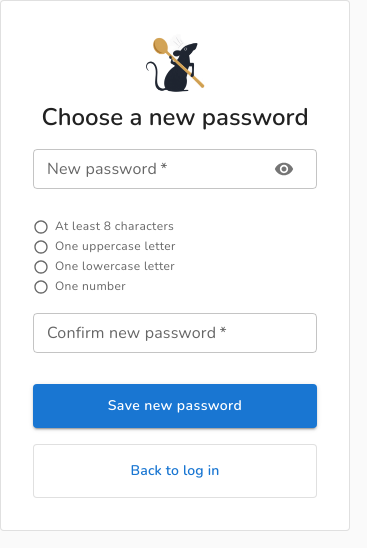
ResetPasswordForm Component › password rules › should clear a field error when that field is edited
In the password field labelled "New password *": [144, 169] box [33,149,254,189], type "Ab1"
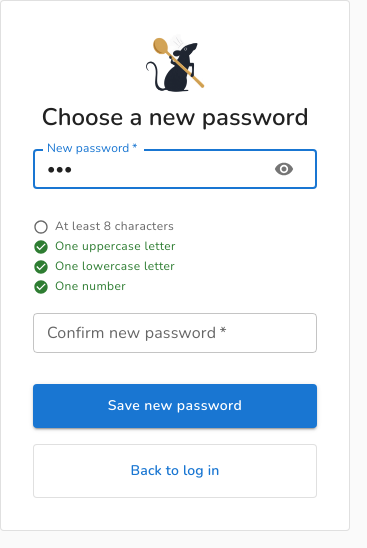
In the password field labelled "Confirm new password *": [175, 332] box [33,312,317,352], type "different"
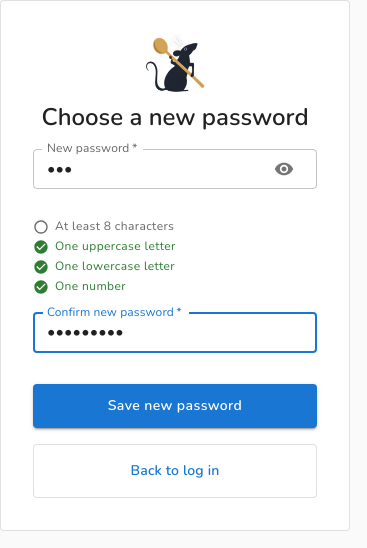
Click the button "Save new password": [175, 406] box [33,384,317,428]
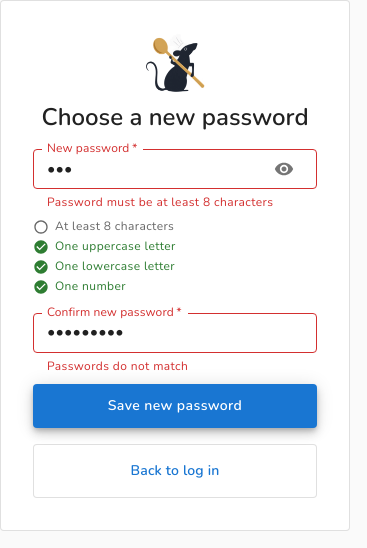
In the password field labelled "New password *": [144, 169] box [33,149,254,189], type "x"
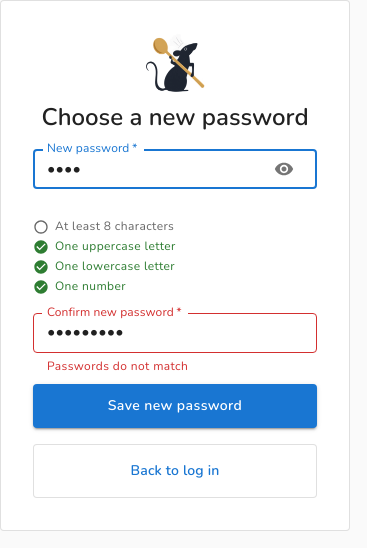
In the password field labelled "Confirm new password *": [175, 332] box [33,312,317,352], type "x"
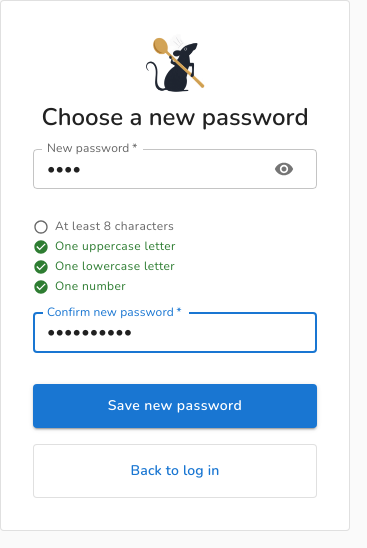
Check: the text "Password must be at least 8 characters" is not shown
Check: the text "Passwords do not match" is gone
